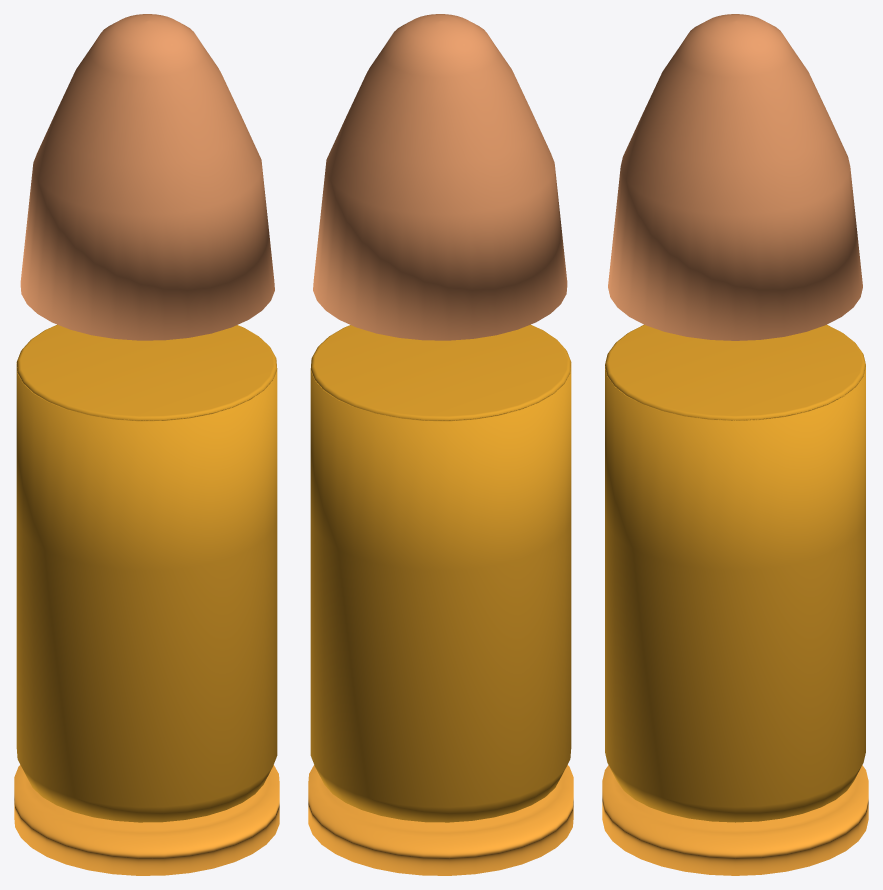
The model's file is uploads_files_3525808_.45.fbx.
3 views of the same model, side by side, from view 1: azimuth 30°, elevation 25°; view 2: azimuth 150°, elevation 25°; view 3: azimuth 270°, elevation 25° (orthographic).
Parts seen in each view (by area): view 1: Cylinder.001, Cylinder.002, Cylinder; view 2: Cylinder.001, Cylinder.002, Cylinder; view 3: Cylinder.001, Cylinder.002, Cylinder.
Part boxes in pixels (<box>): Cylinder.001: <box>16,324,277,822</box>; Cylinder.002: <box>20,14,274,340</box>; Cylinder: <box>14,765,279,875</box>; Cylinder.001: <box>310,324,571,822</box>; Cylinder.002: <box>313,14,567,340</box>; Cylinder: <box>308,765,573,875</box>; Cylinder.001: <box>605,324,865,822</box>; Cylinder.002: <box>608,14,862,340</box>; Cylinder: <box>602,765,868,875</box>.
Bounding box in the file's own units: 132 × 441 × 132.
